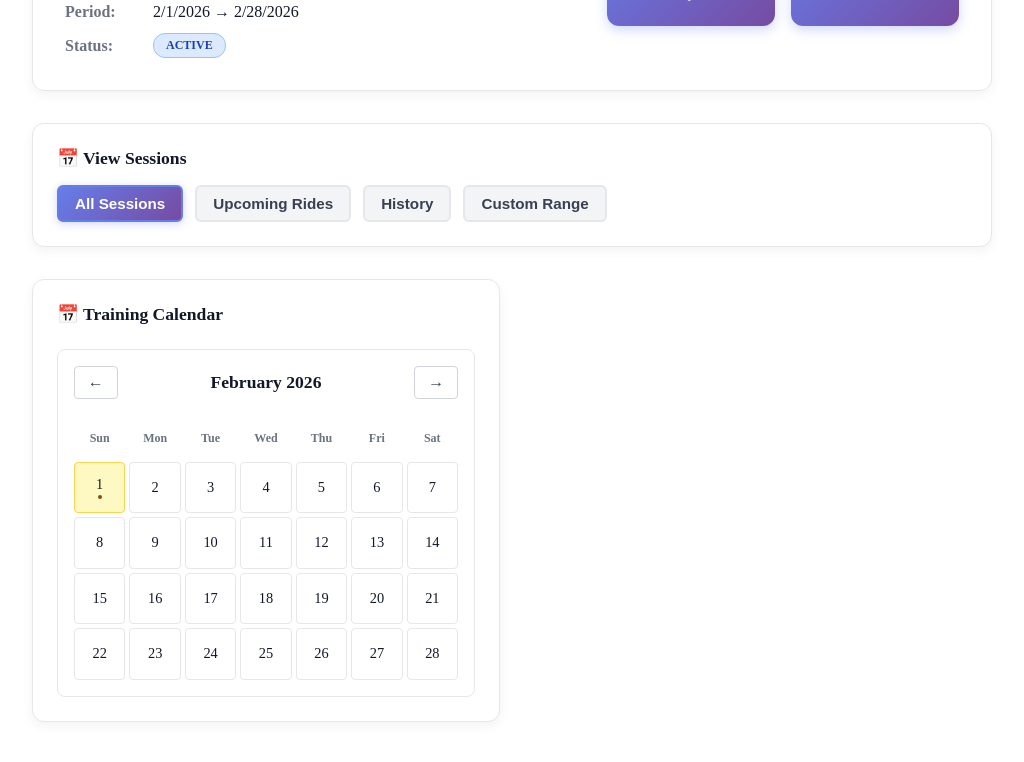
it: TrainingPage with Calendar › shows message when no sessions on selected date
(page scrolled)
Expected: the heading "📅 Training Calendar" is shown, [57,304,223,324]
Click the text "15" at (100, 598), box [92,590,107,607]
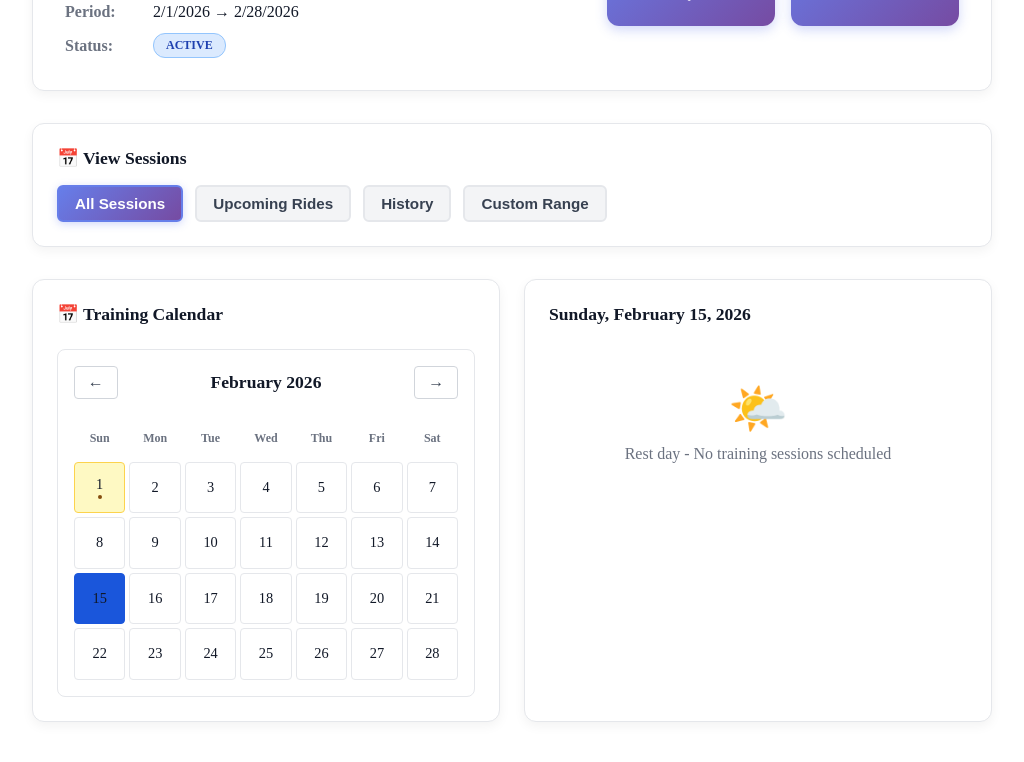
Expected: the text "Rest day - No training sessions scheduled" is shown, [625,445,891,462]
